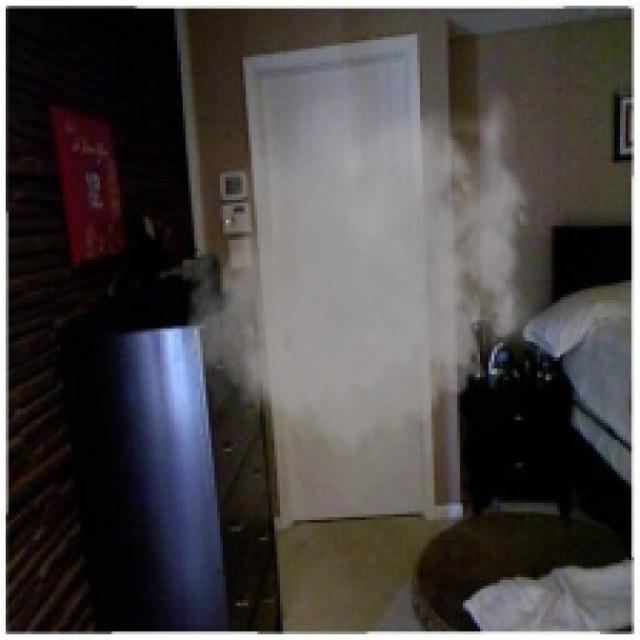smoke: (174, 77, 546, 469)
